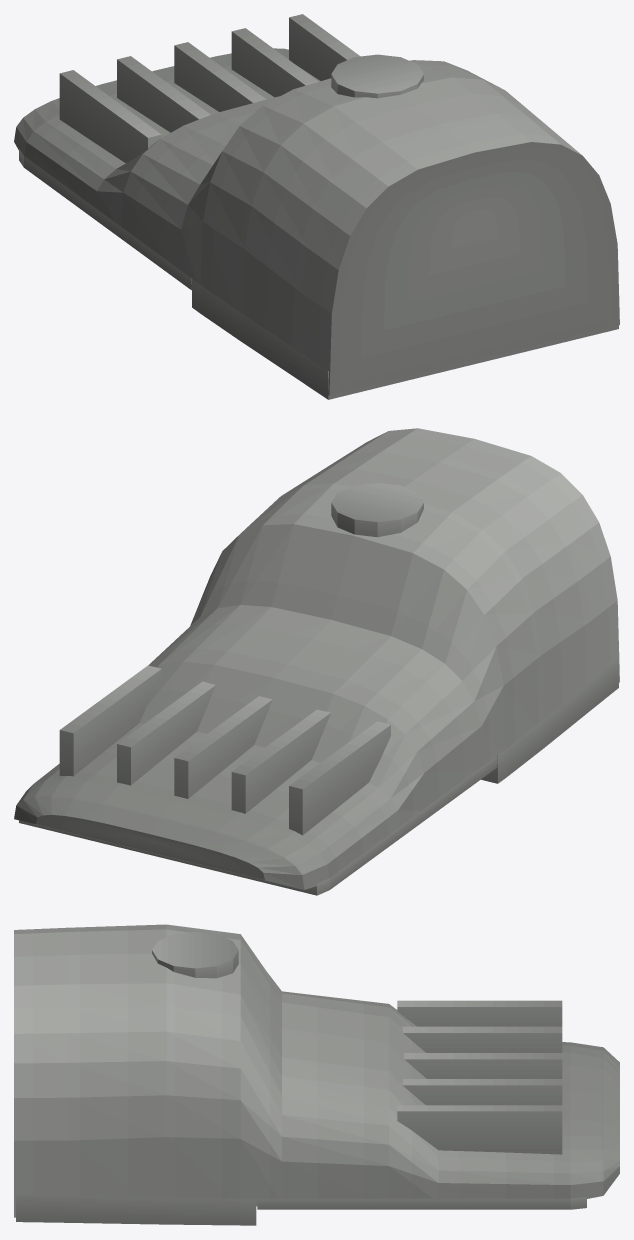
File: streetlight_ltgc1v1np.obj
3 views of the same model, one above another, from view 1: azimuth 30°, elevation 25°; view 2: azimuth 150°, elevation 25°; view 3: azimuth 270°, elevation 25° (orthographic). The views are drawn at different scales.
Visible parts, largest first — view 1: fixture; view 2: fixture; view 3: fixture.
Part boxes in pixels (x1,y1,x2,y2): fixture: (14, 14, 619, 399); fixture: (14, 428, 619, 895); fixture: (14, 924, 619, 1225).
Bounding box in the file's own units: 0.5 × 0.344 × 0.9187.
